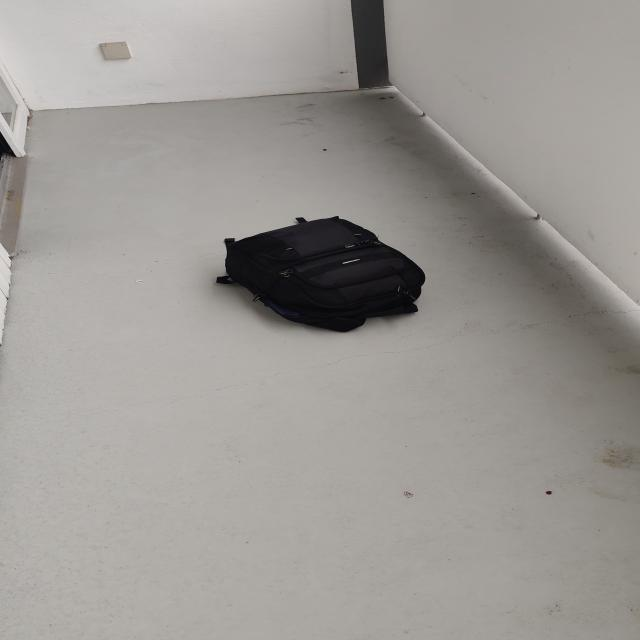backpack: (214, 212, 432, 334)
